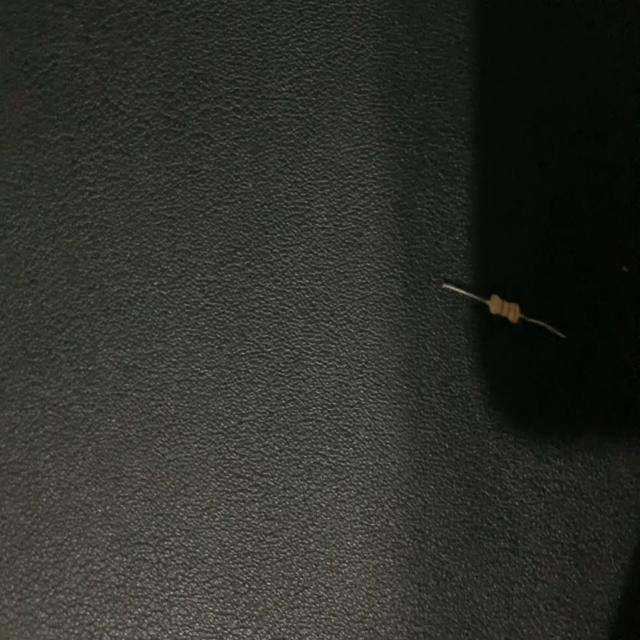resistor: (432, 265, 579, 345)
